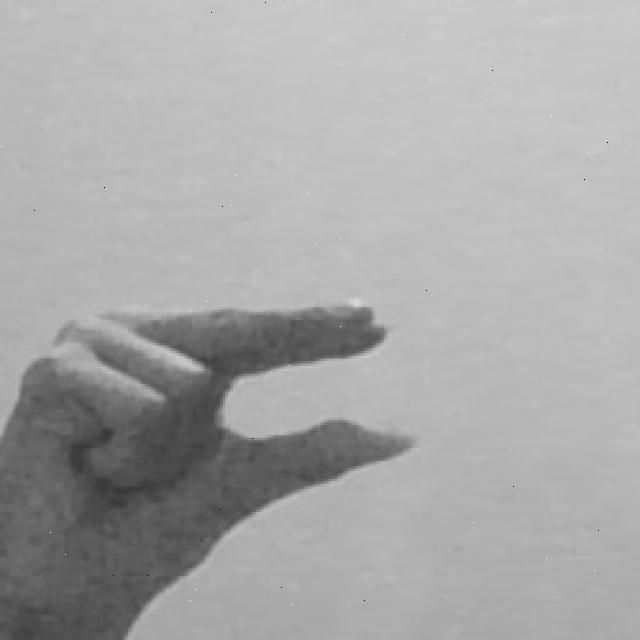G: (5, 288, 420, 640)
